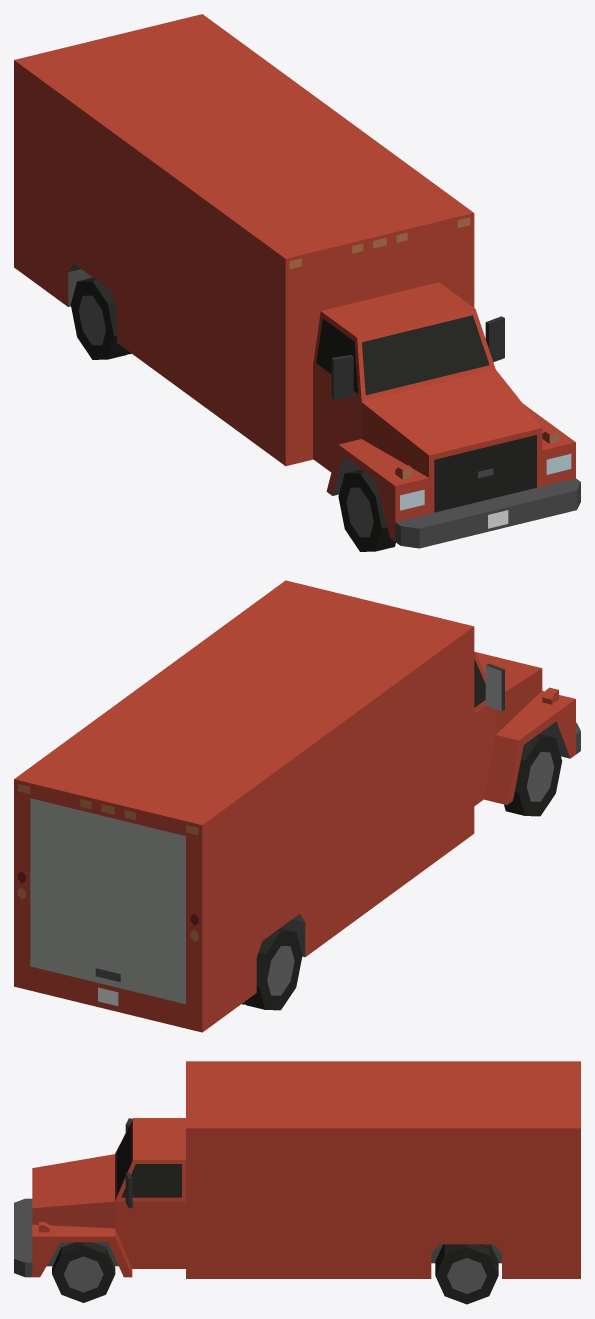
File: Veh_Truck_01_Red.glb
3 renders of one model, top to bottom at view 1: azimuth 30°, elevation 25°; view 2: azimuth 150°, elevation 25°; view 3: azimuth 270°, elevation 25°, orthographic. The views are drawn at different scales.
Parts seen in each view (by area): view 1: Truck_01_Red, Wheel_RR, Wheel_FR; view 2: Truck_01_Red, Wheel_RR, Wheel_FR; view 3: Truck_01_Red, Wheel_RL, Wheel_FL.
Part boxes in pixels (<box>): Truck_01_Red: <box>14,14,580,548</box>; Wheel_RR: <box>70,277,131,359</box>; Wheel_FR: <box>338,469,395,551</box>; Truck_01_Red: <box>14,580,580,1032</box>; Wheel_RR: <box>242,928,302,1010</box>; Wheel_FR: <box>504,734,562,816</box>; Truck_01_Red: <box>14,1061,580,1278</box>; Wheel_RL: <box>435,1244,498,1304</box>; Wheel_FL: <box>52,1242,115,1302</box>.
Size of the model in its own units: 1.35 by 1.66 by 4.85.
Materials: 1 (1 with a texture image).
